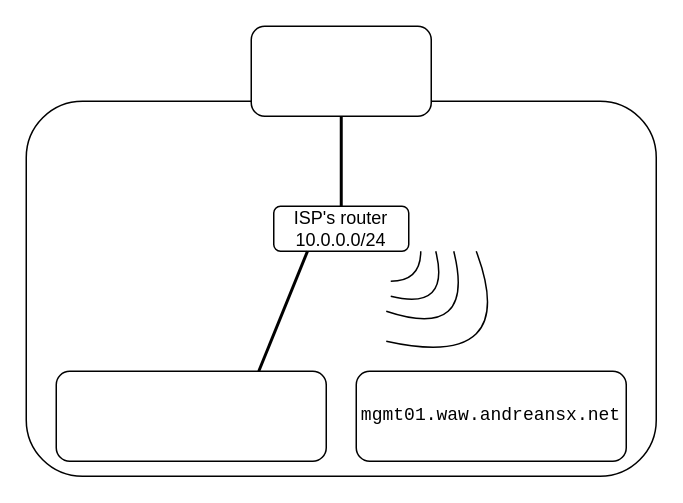
Image size: 683x503. Some labels were removed from this diagram. The shapes that lost their labels are listed below. From the top down, each one's centre as x and y in pixels, then its label:
At (x=340, y=70): "ISP's border router CGNAT".
At (x=190, y=415): "core01.waw.andreansx.net".
